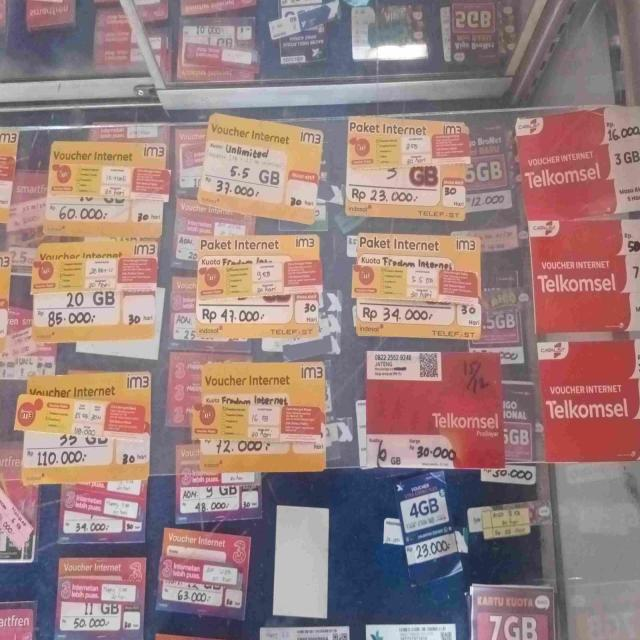Axis: (388, 473, 466, 592)
Indosat-3: (158, 525, 251, 620), (57, 556, 143, 640), (176, 445, 265, 513), (61, 481, 147, 541), (170, 353, 204, 432)
Telkomsel: (365, 353, 508, 467), (513, 110, 640, 213), (537, 339, 639, 460), (528, 221, 640, 330)
im3: (31, 239, 167, 358), (192, 358, 326, 474), (17, 370, 152, 483), (349, 232, 486, 342), (200, 111, 323, 224), (345, 114, 469, 225), (193, 236, 327, 338), (45, 141, 168, 240)
